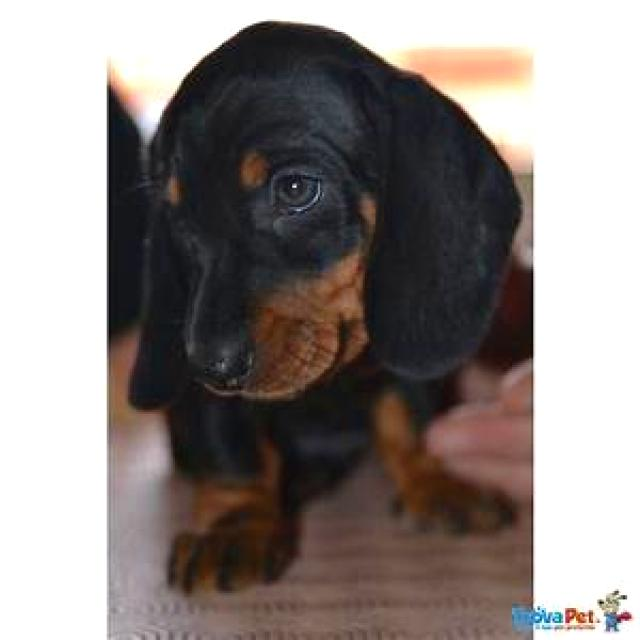KOPEK: (106, 32, 534, 587)
